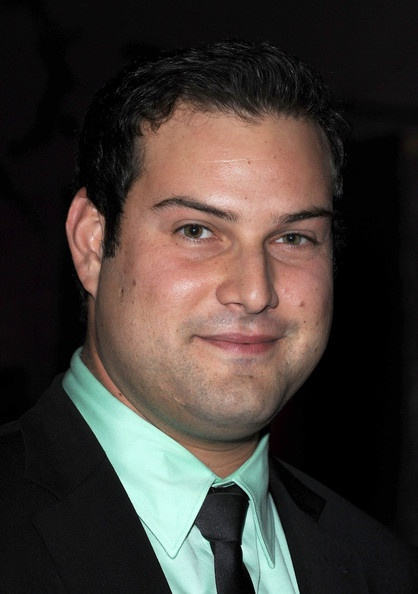bad: (111, 142, 379, 409)
